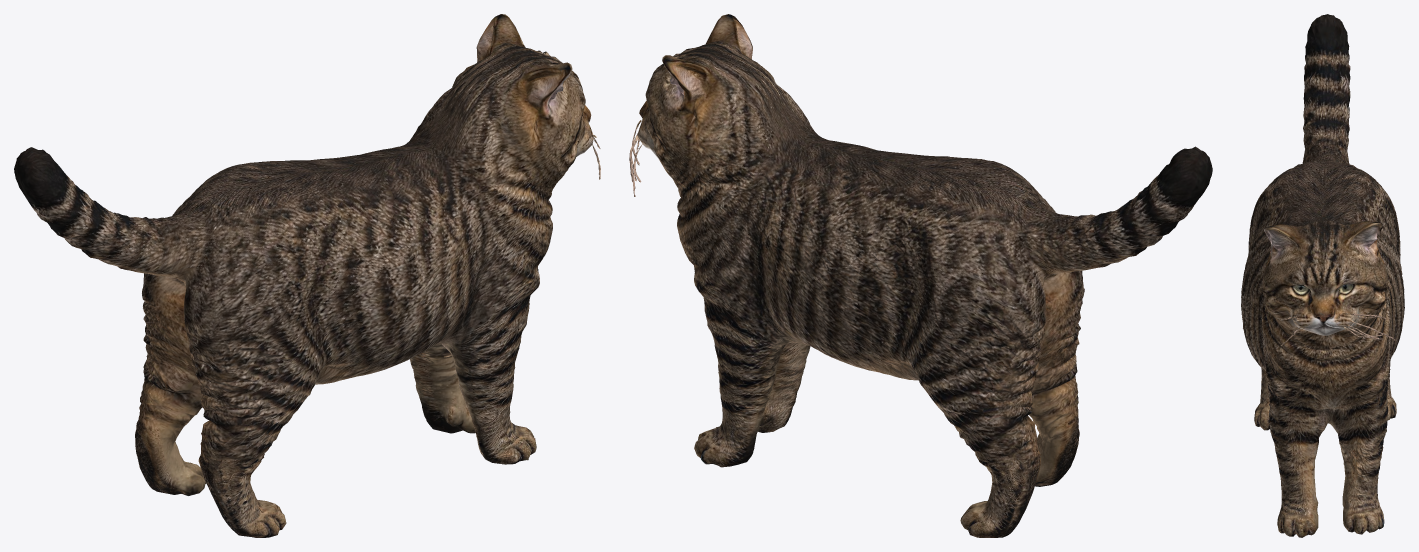
File: FISHTOPH.glb
3 renders of one model, left to right at view 1: azimuth 30°, elevation 25°; view 2: azimuth 150°, elevation 25°; view 3: azimuth 270°, elevation 25°, orthographic. The views are drawn at different scales.
Visible parts, largest first — view 1: tripo_node_34c3178d-e2e1-4181-8dc9-c28208cf177d; view 2: tripo_node_34c3178d-e2e1-4181-8dc9-c28208cf177d; view 3: tripo_node_34c3178d-e2e1-4181-8dc9-c28208cf177d.
Boxes of the visible parts, x1,y1,x2,y2 form: tripo_node_34c3178d-e2e1-4181-8dc9-c28208cf177d: [14, 14, 600, 537]; tripo_node_34c3178d-e2e1-4181-8dc9-c28208cf177d: [629, 14, 1212, 537]; tripo_node_34c3178d-e2e1-4181-8dc9-c28208cf177d: [1241, 14, 1404, 537].
Size of the model in its own units: 1.47 by 0.9988 by 0.4456.
Materials: 1 (1 with a texture image).
